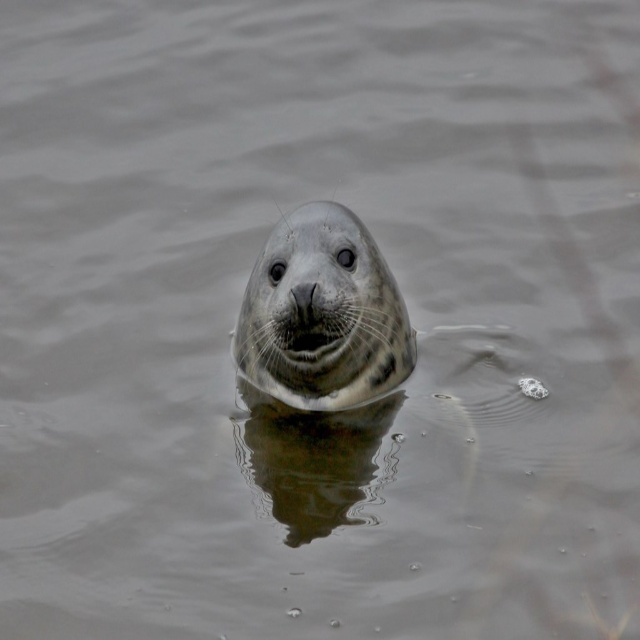Harbor seal: (230, 185, 418, 411)
